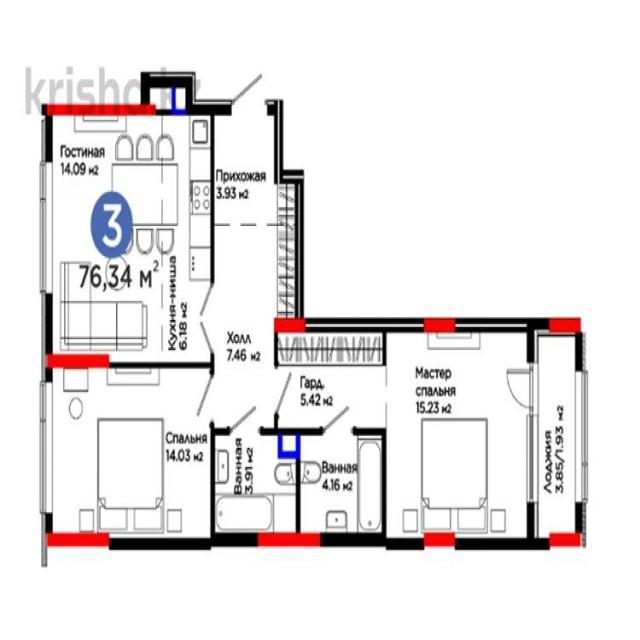balcony: (534, 329, 583, 537)
bathroom: (218, 430, 298, 543), (301, 432, 382, 534)
hallway: (216, 116, 276, 423)
living_room: (49, 114, 211, 362), (47, 369, 208, 550), (389, 329, 527, 540)
other: (281, 333, 381, 426)
